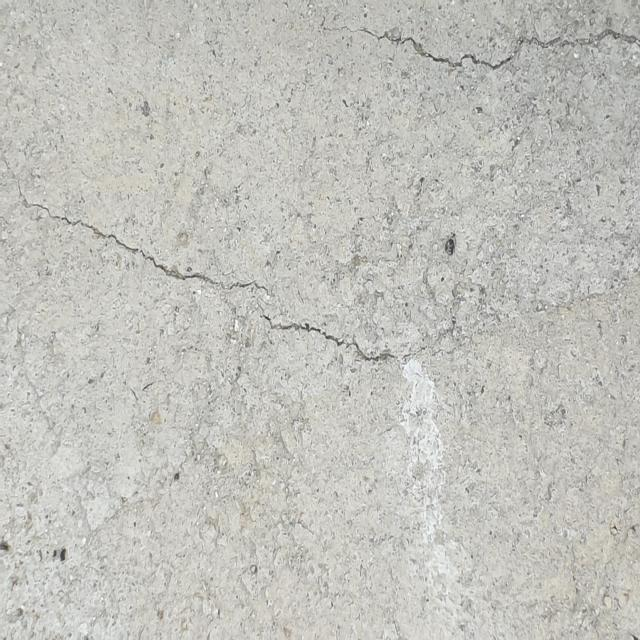SurfaceCrack: (0, 141, 639, 410)
